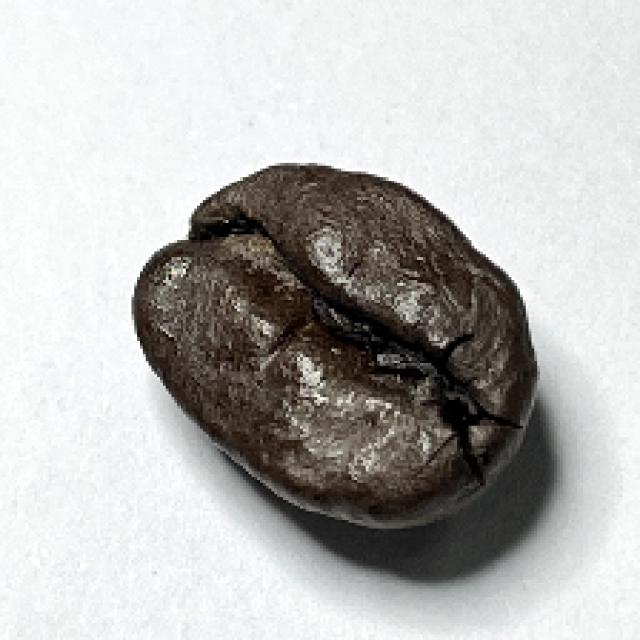bean: (130, 159, 543, 526)
